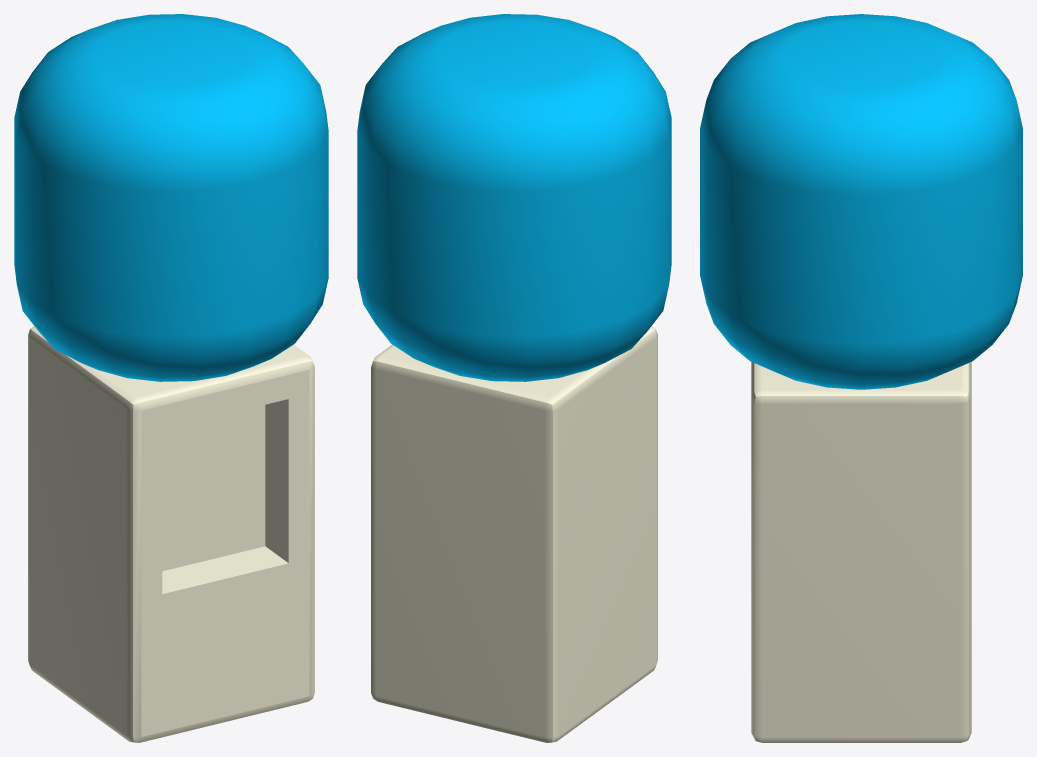
File: prp_watercooler.fbx
3 renders of one model, left to right at view 1: azimuth 30°, elevation 25°; view 2: azimuth 150°, elevation 25°; view 3: azimuth 270°, elevation 25°, orthographic. The views are drawn at different scales.
Visible parts, largest first — view 1: prp_watercooler; view 2: prp_watercooler; view 3: prp_watercooler.
Boxes of the visible parts, x1,y1,x2,y2 form: prp_watercooler: [14, 14, 328, 742]; prp_watercooler: [357, 14, 671, 742]; prp_watercooler: [700, 14, 1022, 742].
Bounding box in the file's own units: 2 × 4.41 × 2.
